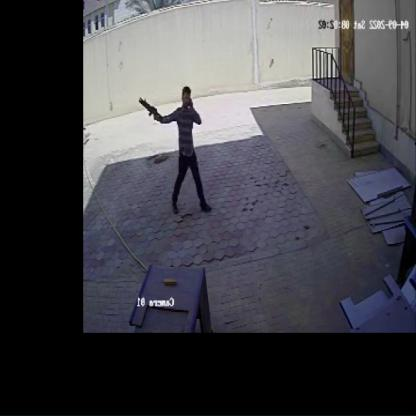handgun: (137, 92, 166, 127)
